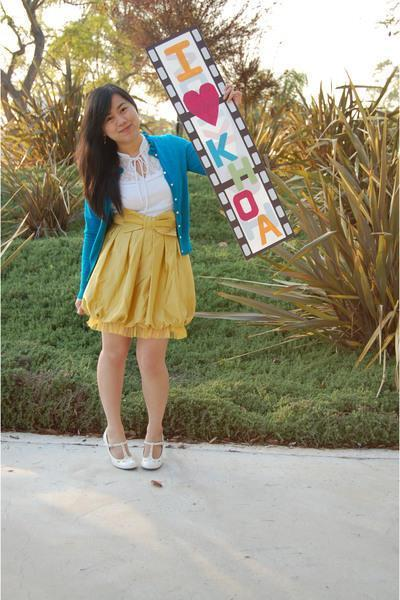jacket: (77, 132, 203, 298)
shirt: (119, 136, 172, 216)
shoe: (109, 442, 171, 471)
skirt: (75, 205, 203, 342)
